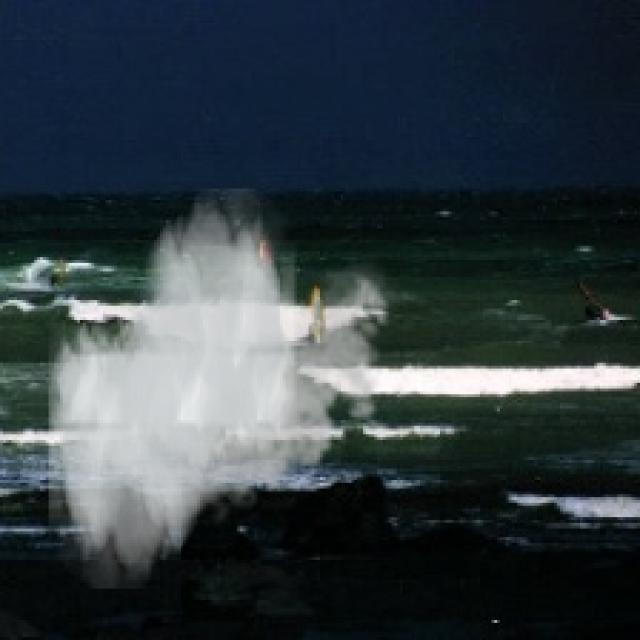smoke: (49, 188, 400, 588)
